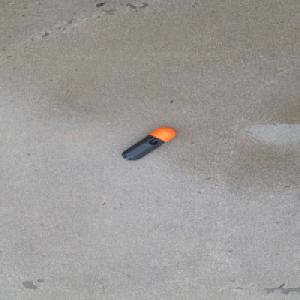PlasticPart: (121, 127, 177, 161)
